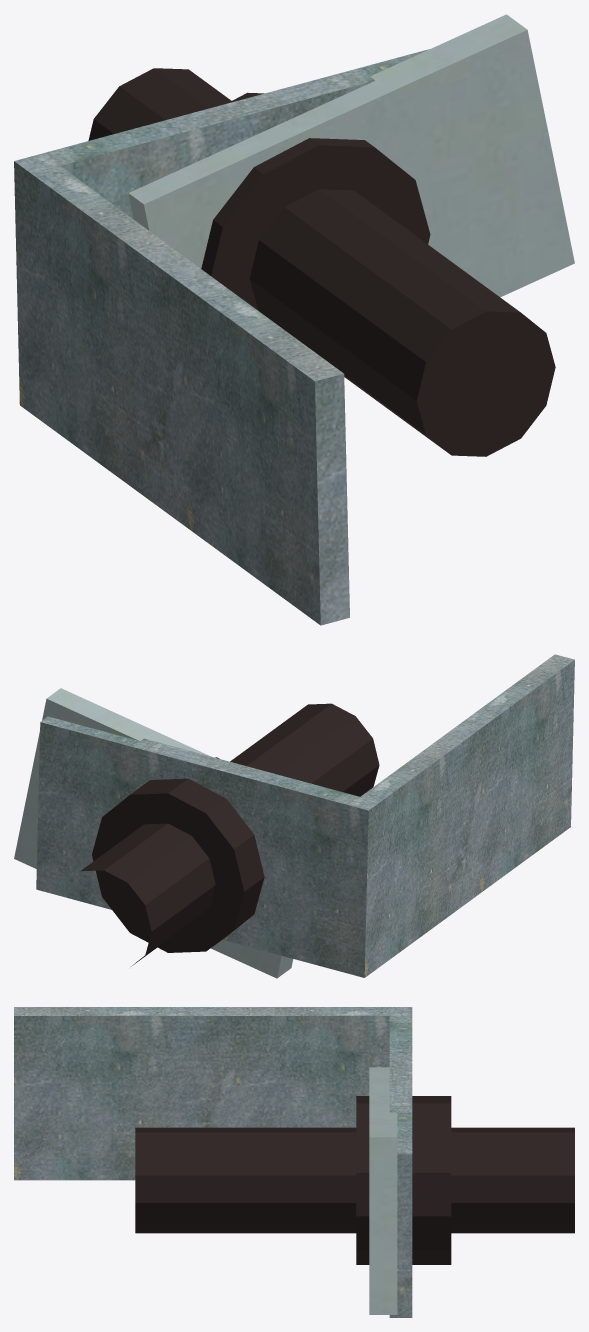
The model's file is ddjt001-geode.glb.
The picture shows the model from 3 angles, top to bottom: view 1: azimuth 30°, elevation 25°; view 2: azimuth 150°, elevation 25°; view 3: azimuth 270°, elevation 25°; orthographic projection. The views are drawn at different scales.
Visible parts, largest first — view 1: Node; view 2: Node; view 3: Node.
Part boxes in pixels (x1,y1,x2,y2): Node: (14,14,574,625); Node: (14,654,574,978); Node: (14,1007,574,1317).
Size of the model in its own units: 0.1657 by 0.0978 by 0.2302.
Materials: 3 (3 with a texture image).
